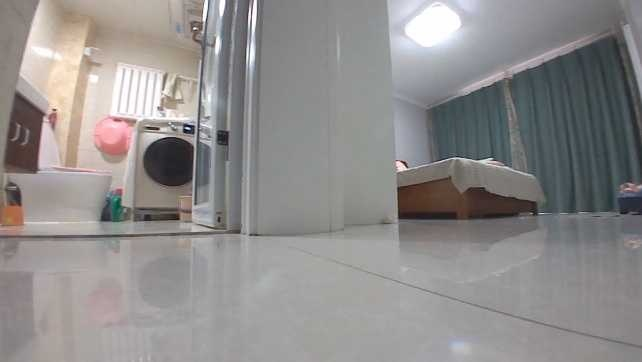bed: (394, 145, 544, 218)
door_sill: (0, 228, 232, 240)
toilet: (16, 104, 110, 224)
washing_machine: (124, 114, 203, 218)
